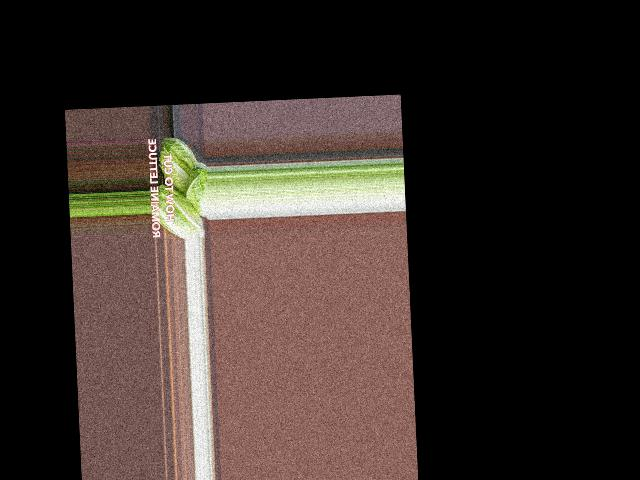lettuce: (153, 133, 203, 200)
